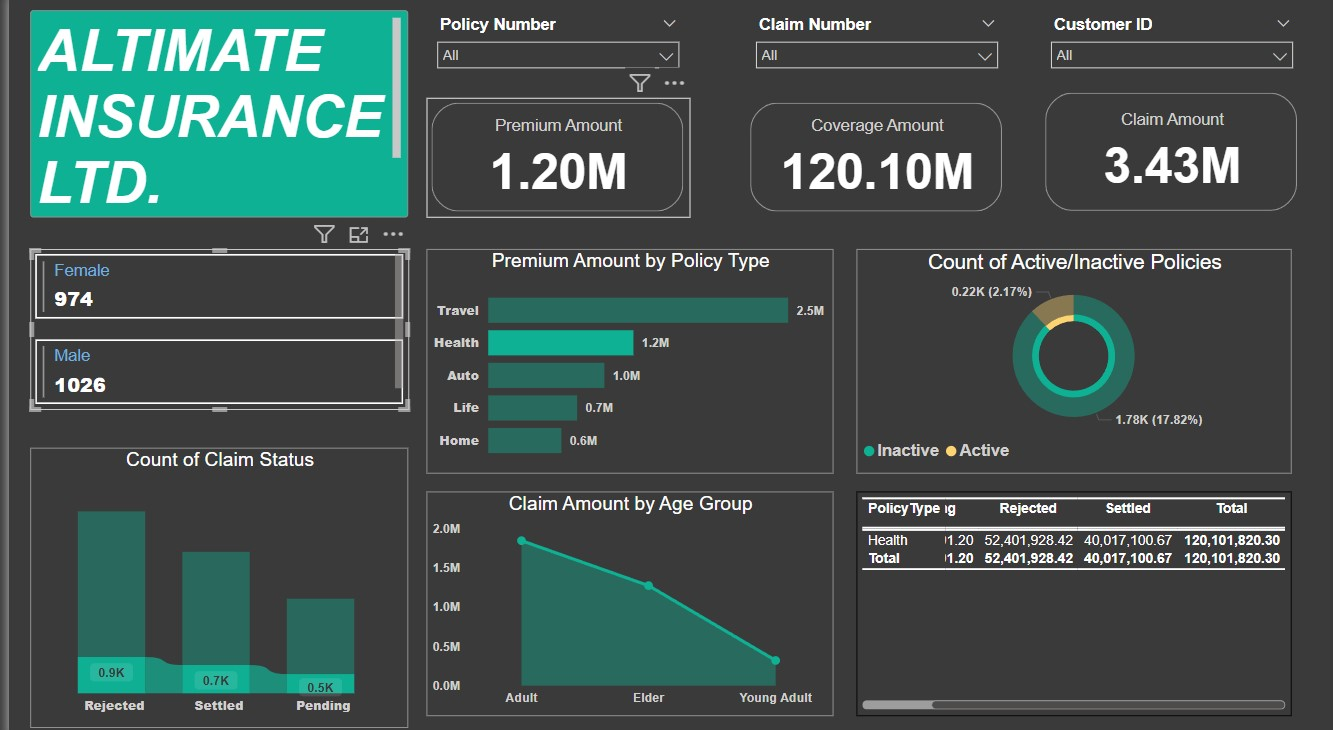

This screenshot's page, from the dashboard's own definition file:
{"tool":"powerbi","page":{"name":"Page 1","canvas":[1280,720],"ordinal":0},"visuals":[{"type":"slicer","fields":{"Values":["InsuranceData.PolicyNumber"]},"box":[403.4,15.1,253.9,75.5],"z":0},{"type":"slicer","fields":{"Values":["InsuranceData.ClaimNumber"]},"box":[710.8,15.1,253.9,75.5],"z":1000},{"type":"slicer","fields":{"Values":["InsuranceData.CustomerID"]},"box":[994.9,15.1,253.9,75.5],"z":2000},{"type":"textbox","box":[20.6,15.1,365,200.3],"z":3000},{"type":"cardVisual","fields":{"Data":["Sum(InsuranceData.PremiumAmount)"]},"box":[403.4,100.2,253.9,115.3],"z":4000},{"type":"cardVisual","fields":{"Data":["Sum(InsuranceData.CoverageAmount)"]},"box":[710.8,100.2,253.9,115.3],"z":5000},{"type":"cardVisual","fields":{"Data":["Sum(InsuranceData.ClaimAmount)"]},"box":[994.9,90.6,253.9,124.9],"z":6000},{"type":"multiRowCard","fields":{"Values":["InsuranceData.Gender","CountNonNull(InsuranceData.Gender)"]},"box":[20.6,245.6,365,156.4],"z":7000},{"type":"ribbonChart","title":"Count of  Claim Status","fields":{"Category":["InsuranceData.ClaimStatus"],"Y":["CountNonNull(InsuranceData.ClaimStatus)"]},"box":[20.6,437.7,365,270.3],"z":8000},{"type":"barChart","fields":{"Category":["InsuranceData.PolicyType"],"Y":["Sum(InsuranceData.PremiumAmount)"]},"box":[403.4,245.6,392.5,216.8],"z":8001},{"type":"lineChart","fields":{"Category":["InsuranceData.Age Group"],"Y":["Sum(InsuranceData.ClaimAmount)"]},"box":[403.4,480.3,392.5,216.8],"z":8002},{"type":"donutChart","title":"Count of Active/Inactive Policies","fields":{"Category":["InsuranceData.Active/Inactive Policy"],"Y":["CountNonNull(InsuranceData.Active/Inactive Policy)"]},"box":[817.8,245.6,419.9,216.8],"z":8003},{"type":"pivotTable","fields":{"Rows":["InsuranceData.PolicyType"],"Values":["Sum(InsuranceData.CoverageAmount)"],"Columns":["InsuranceData.ClaimStatus"]},"box":[817.8,480.3,419.9,216.8],"z":8004}]}

Visuals, with their boxes in screenshot pixels (x1, y1, x2, y2), scaled from the page's 1280x720 canvas onto the 1333x730 screenshot:
slicer - InsuranceData.PolicyNumber: <region>420, 15, 685, 92</region>
slicer - InsuranceData.ClaimNumber: <region>740, 15, 1005, 92</region>
slicer - InsuranceData.CustomerID: <region>1036, 15, 1301, 92</region>
textbox: <region>21, 15, 402, 218</region>
cardVisual - Sum(InsuranceData.PremiumAmount): <region>420, 102, 685, 218</region>
cardVisual - Sum(InsuranceData.CoverageAmount): <region>740, 102, 1005, 218</region>
cardVisual - Sum(InsuranceData.ClaimAmount): <region>1036, 92, 1301, 218</region>
multiRowCard - InsuranceData.Gender x CountNonNull(InsuranceData.Gender): <region>21, 249, 402, 408</region>
"Count of  Claim Status" ribbonChart: <region>21, 444, 402, 718</region>
barChart - InsuranceData.PolicyType x Sum(InsuranceData.PremiumAmount): <region>420, 249, 829, 469</region>
lineChart - InsuranceData.Age Group x Sum(InsuranceData.ClaimAmount): <region>420, 487, 829, 707</region>
"Count of Active/Inactive Policies" donutChart: <region>852, 249, 1289, 469</region>
pivotTable - InsuranceData.PolicyType x Sum(InsuranceData.CoverageAmount): <region>852, 487, 1289, 707</region>
